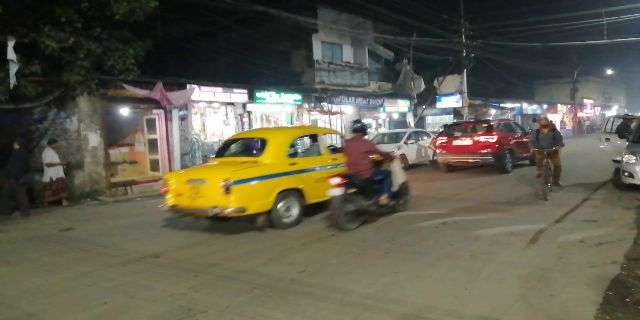Car: (164, 127, 346, 229), (435, 114, 532, 171), (370, 122, 433, 170)
Cycle: (532, 116, 561, 198)
Motorbike: (330, 122, 408, 229)
